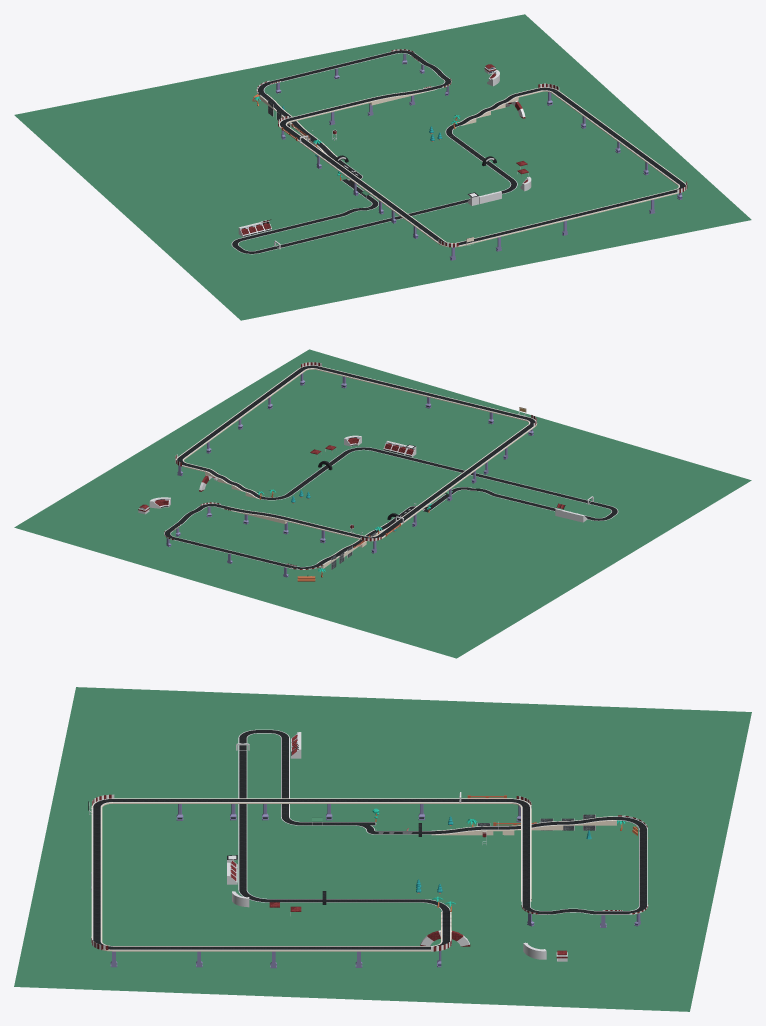
The model's file is race1.glb.
The picture shows the model from 3 angles, top to bottom: view 1: azimuth 30°, elevation 25°; view 2: azimuth 150°, elevation 25°; view 3: azimuth 270°, elevation 25°; orthographic projection. The views are drawn at different scales.
Parts seen in each view (by area): view 1: mergedBlocks(Clone); view 2: mergedBlocks(Clone); view 3: mergedBlocks(Clone).
Boxes of the visible parts, box(x1,y1,x2,y2) form: mergedBlocks(Clone): box(14, 14, 751, 320); mergedBlocks(Clone): box(14, 349, 751, 658); mergedBlocks(Clone): box(14, 687, 751, 1011).
Size of the model in its own units: 72.16 by 3.2 by 69.29.
22 materials, 3 textured.
